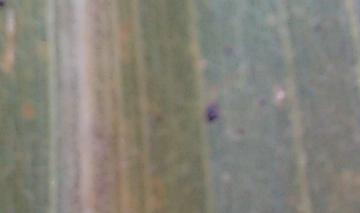tarspot: (204, 99, 221, 122), (311, 20, 325, 33), (232, 125, 247, 137), (256, 95, 267, 109), (221, 45, 235, 55), (1, 1, 8, 10)
